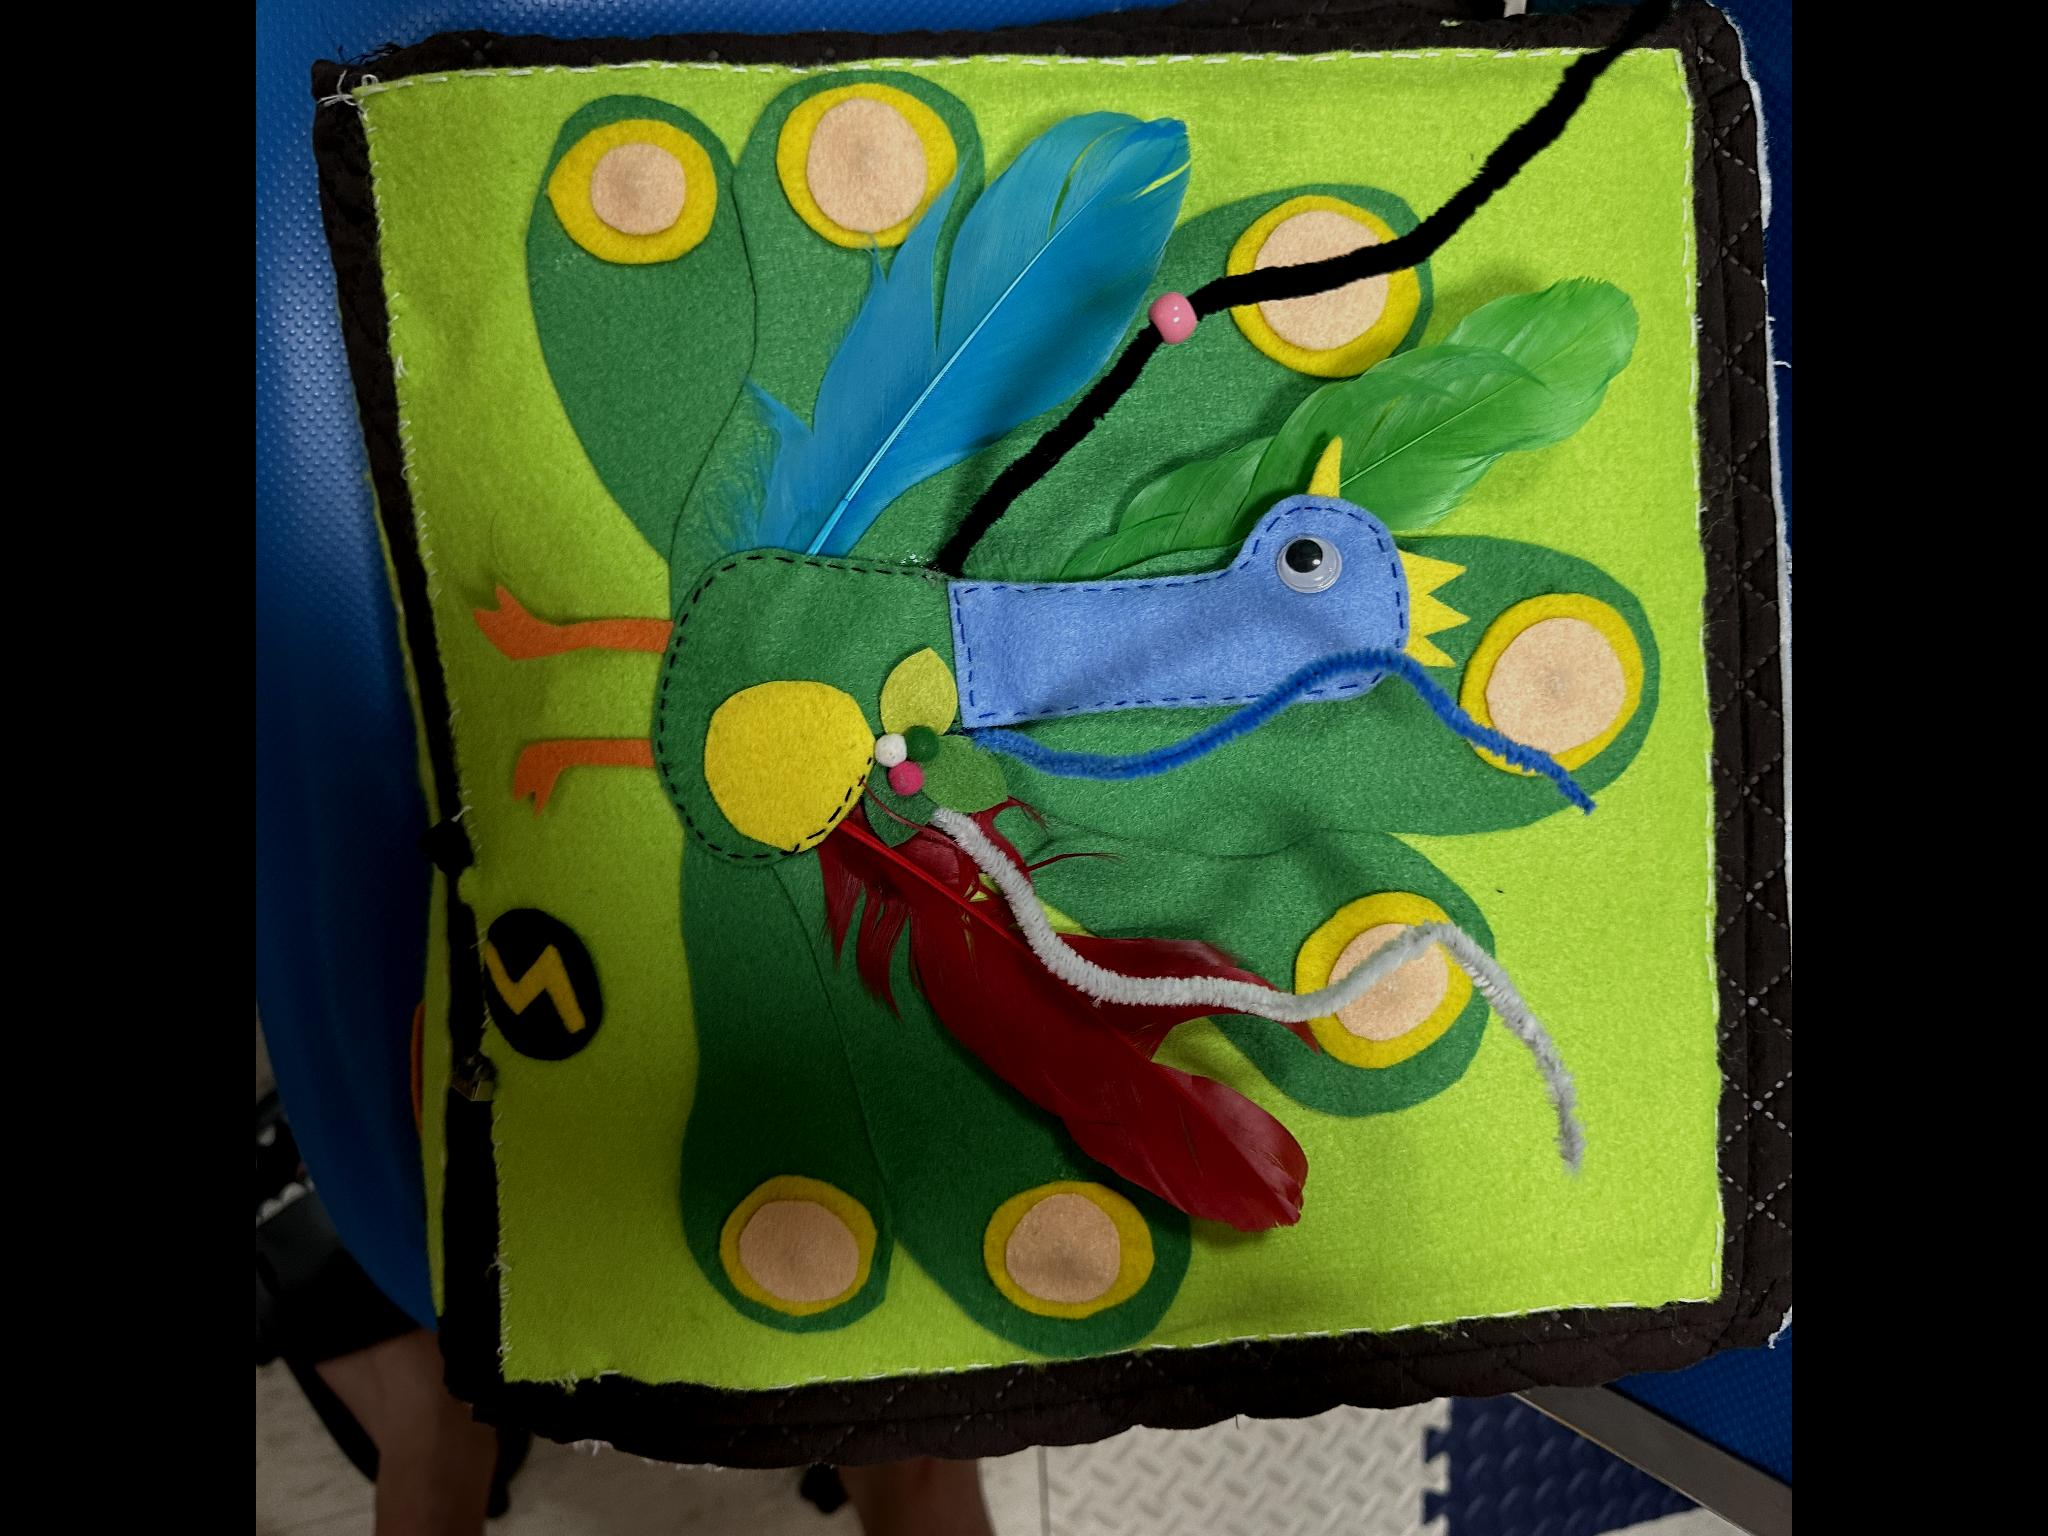bead: (1135, 273, 1214, 350)
